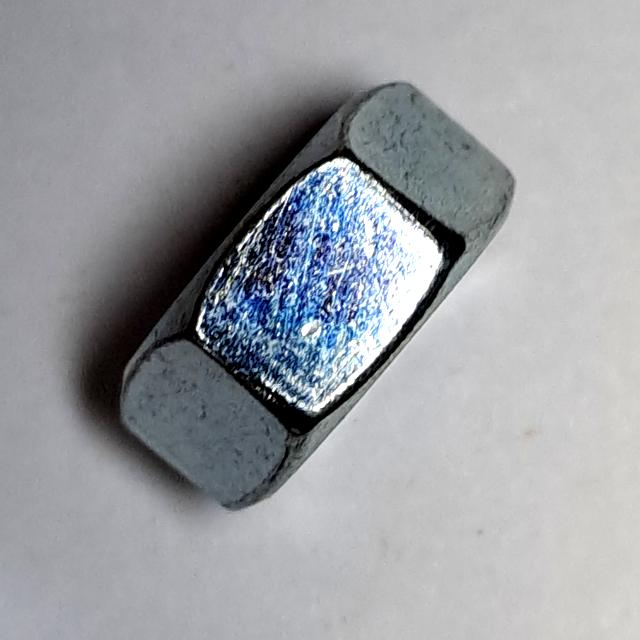Side_Excellent: (109, 64, 528, 530)
